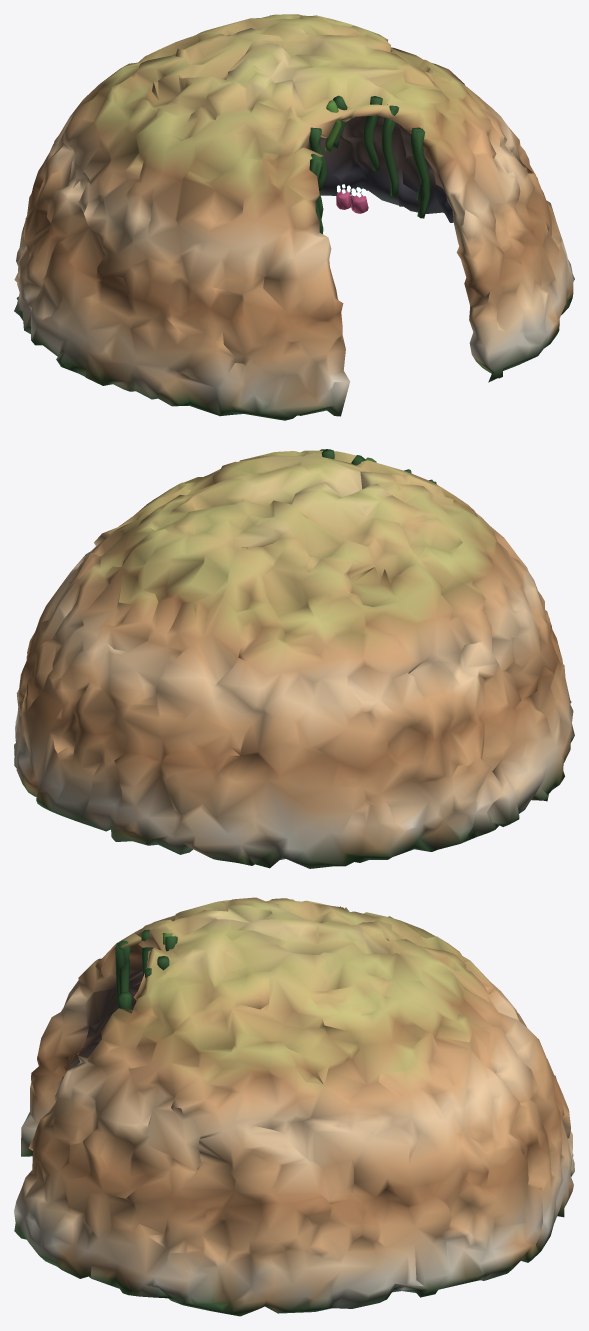
The model's file is shore_grotto.glb.
3 views of the same model, one above another, from view 1: azimuth 30°, elevation 25°; view 2: azimuth 150°, elevation 25°; view 3: azimuth 270°, elevation 25° (orthographic). The views are drawn at different scales.
Parts seen in each view (by area): view 1: shore_grotto; view 2: shore_grotto; view 3: shore_grotto.
Part boxes in pixels (left/top/right/bottom): shore_grotto: left=14, top=14, right=574, bottom=420; shore_grotto: left=14, top=449, right=574, bottom=868; shore_grotto: left=14, top=897, right=574, bottom=1316.
Bounding box in the file's own units: 33.11 × 17.19 × 32.42.
